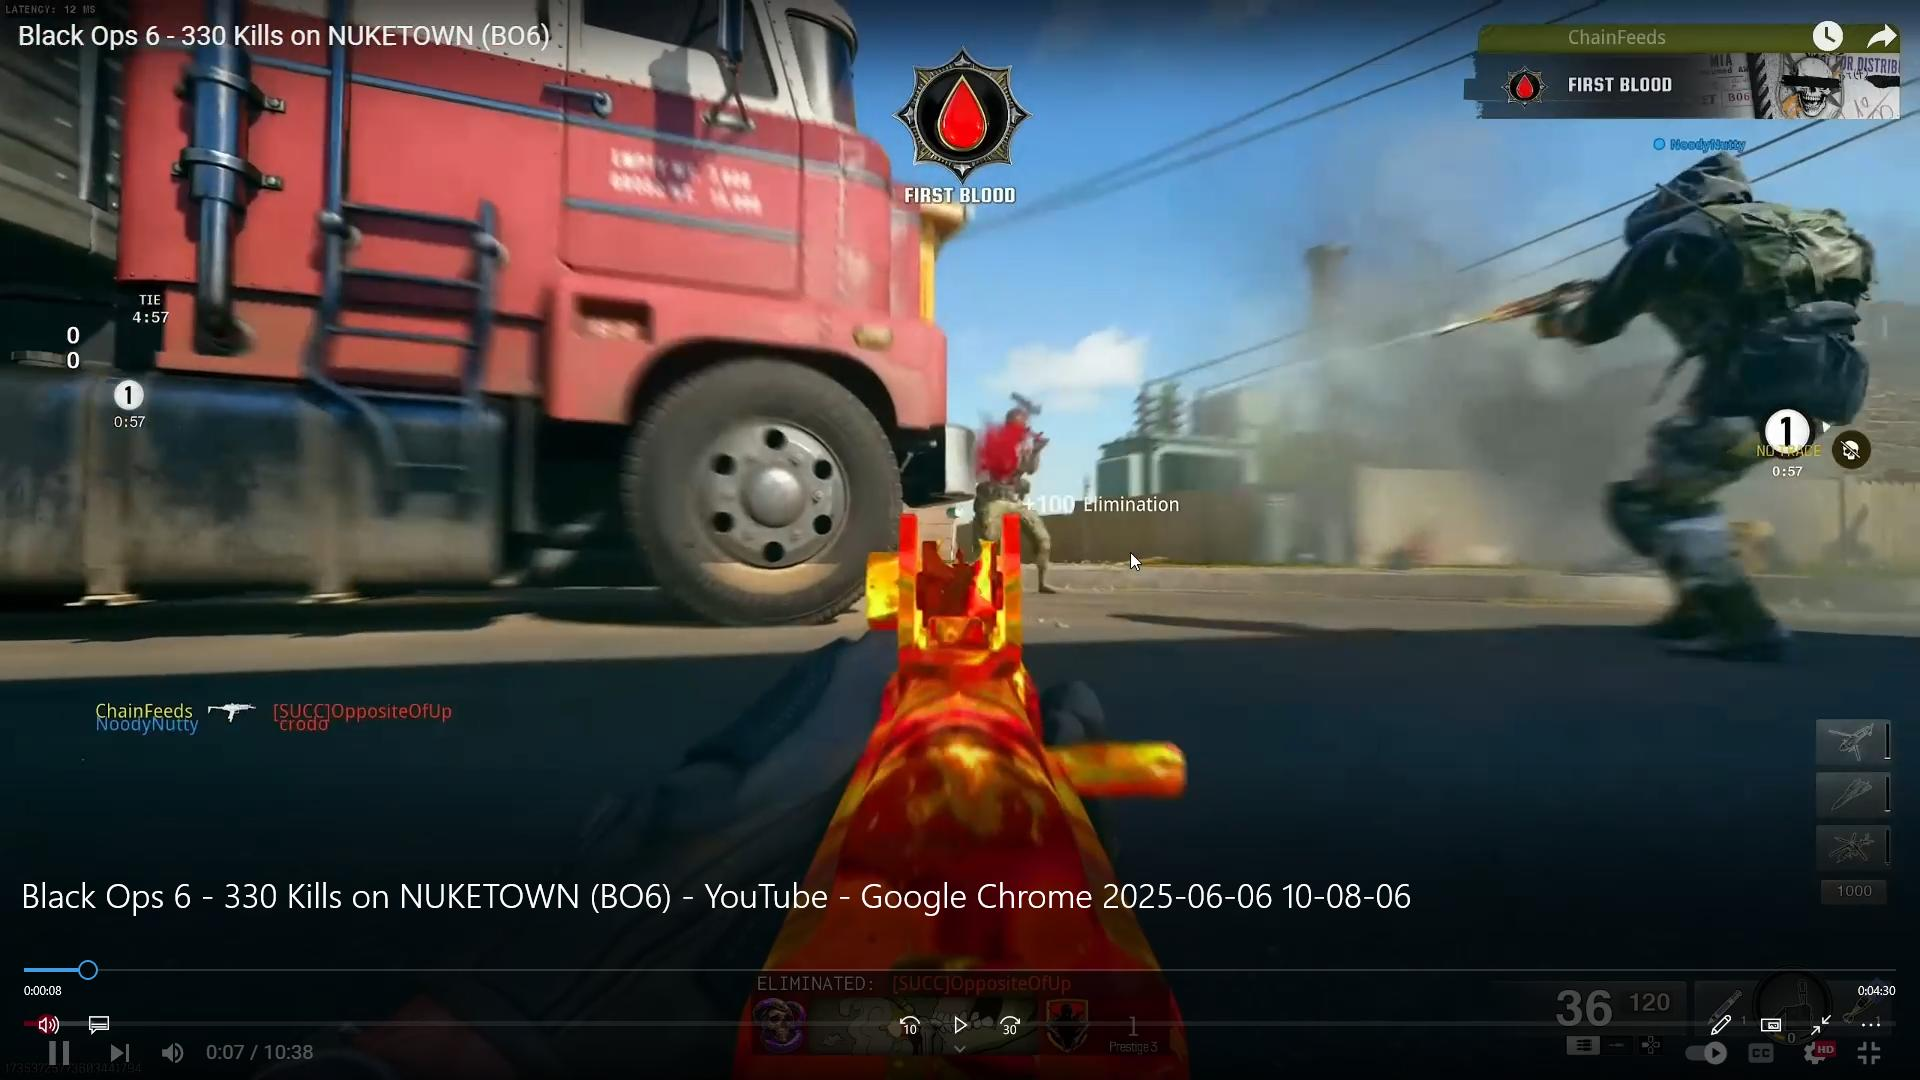Enemy: (1497, 160, 1886, 646), (965, 405, 1063, 539)
